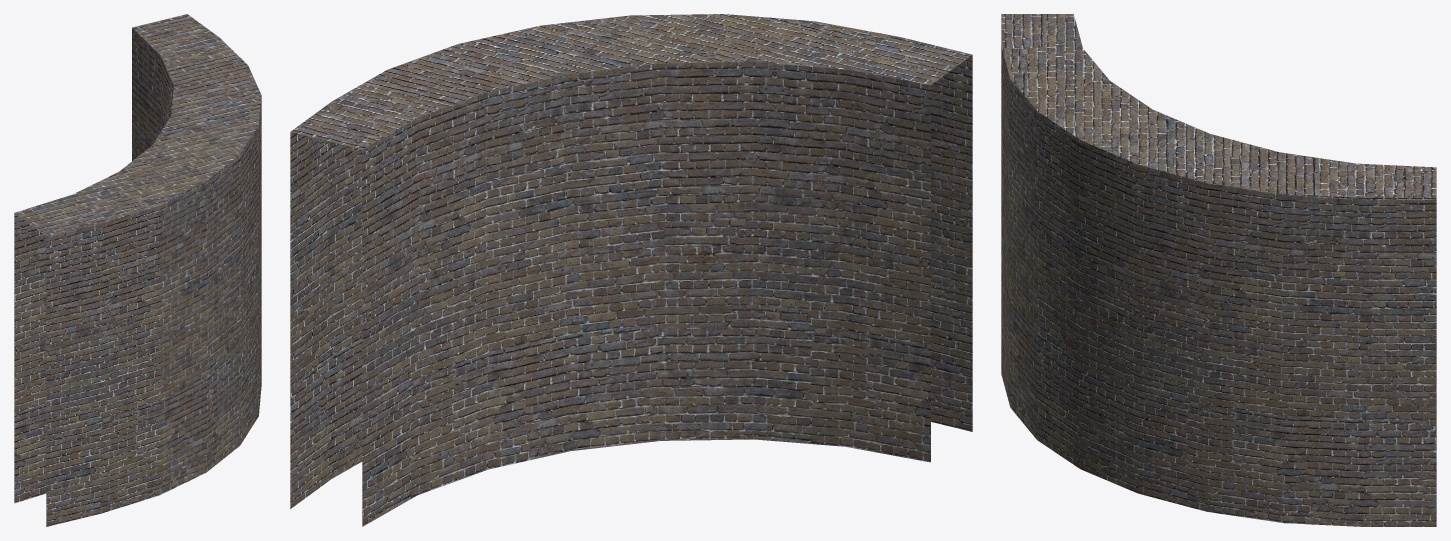
The model's file is Wall_InsetWall_Corner_Rounded.fbx.
The picture shows the model from 3 angles, left to right: view 1: azimuth 30°, elevation 25°; view 2: azimuth 150°, elevation 25°; view 3: azimuth 270°, elevation 25°; orthographic projection. The views are drawn at different scales.
Visible parts, largest first — view 1: Wall_Corner_Rounded; view 2: Wall_Corner_Rounded; view 3: Wall_Corner_Rounded.
Boxes of the visible parts, x1,y1,x2,y2 form: Wall_Corner_Rounded: (14,14,261,526); Wall_Corner_Rounded: (290,14,972,526); Wall_Corner_Rounded: (1001,14,1436,526).
Bounding box in the file's own units: 600 × 500 × 600.
1 material, 1 textured.
